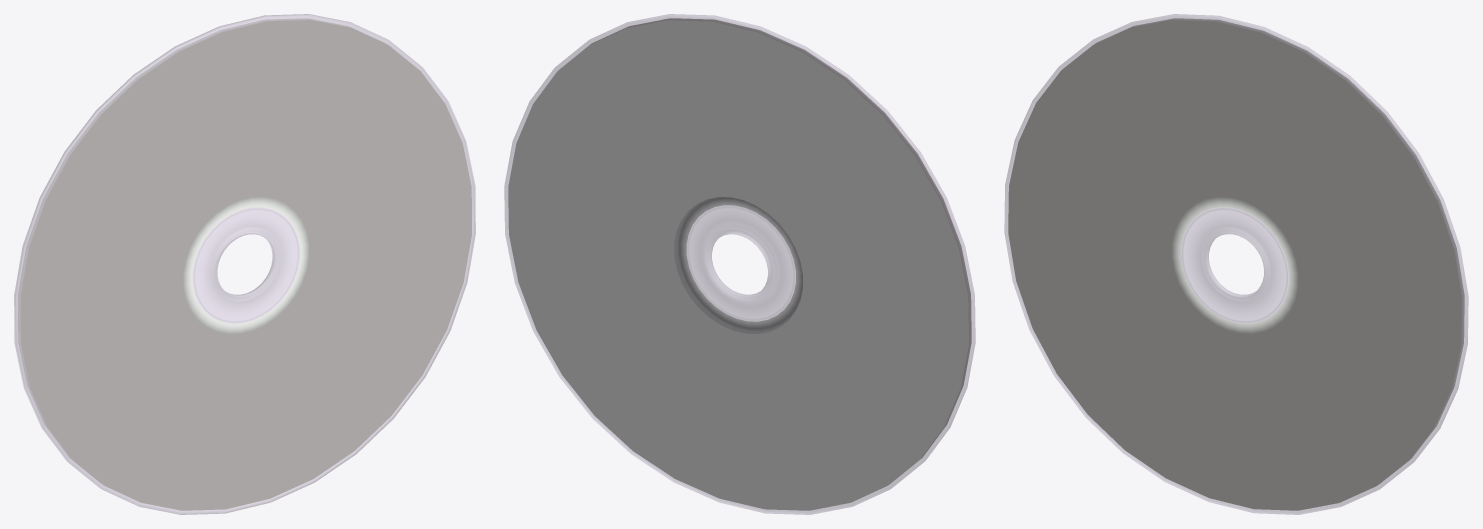
The model's file is CDV2.glb.
3 views of the same model, side by side, from view 1: azimuth 30°, elevation 25°; view 2: azimuth 150°, elevation 25°; view 3: azimuth 330°, elevation 25° (orthographic).
Parts seen in each view (by area): view 1: CD.001; view 2: CD.001; view 3: CD.001.
Boxes of the visible parts, box(x1,y1,x2,y2) form: CD.001: box(14, 14, 475, 514); CD.001: box(504, 14, 975, 514); CD.001: box(1004, 14, 1468, 514).
Size of the model in its own units: 3.19 by 3.19 by 0.0972.
